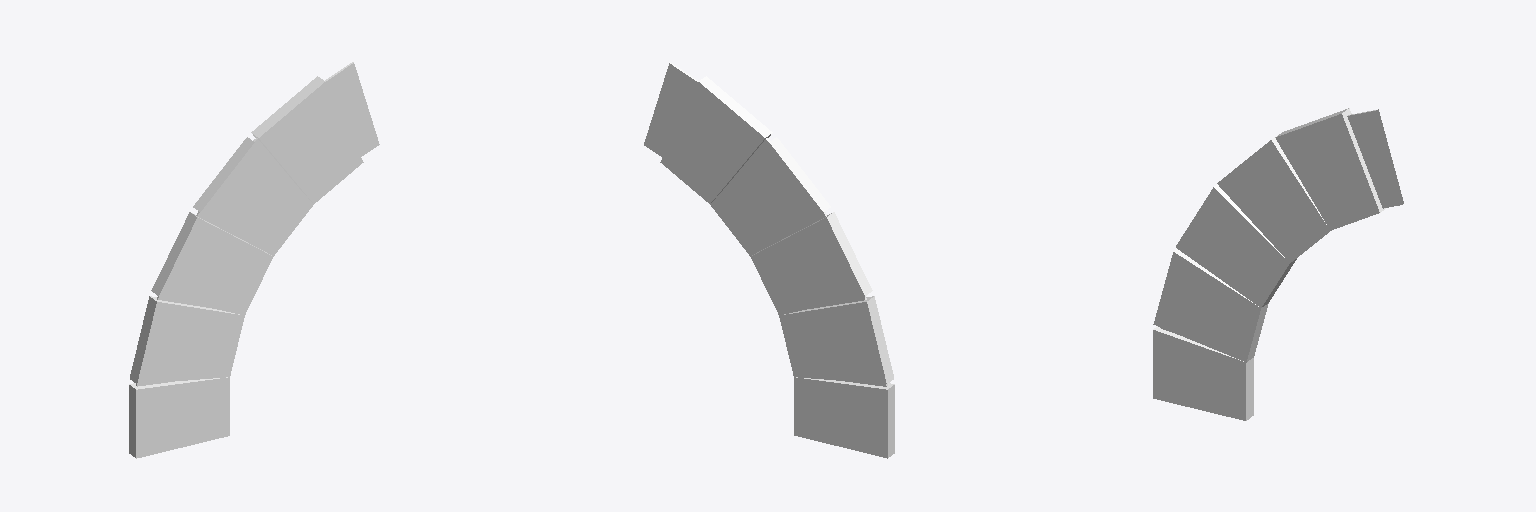
Rendered from generic_facade_round_arch_3_left_bottom.obj.
3 views of the same model, side by side, from view 1: azimuth 30°, elevation 25°; view 2: azimuth 150°, elevation 25°; view 3: azimuth 330°, elevation 25° (orthographic).
Visible parts, largest first — view 1: arch_3_right, arch_3_right_inner; view 2: arch_3_right, arch_3_right_inner; view 3: arch_3_right, arch_3_right_inner.
Boxes of the visible parts, box(x1,y1,x2,y2) form: arch_3_right: box(129, 76, 363, 458); arch_3_right_inner: box(136, 62, 379, 386); arch_3_right: box(660, 76, 894, 458); arch_3_right_inner: box(644, 62, 887, 386); arch_3_right: box(1153, 108, 1385, 420); arch_3_right_inner: box(1160, 109, 1403, 334).
Bounding box in the file's own units: 1.68 × 2.22 × 0.0906.